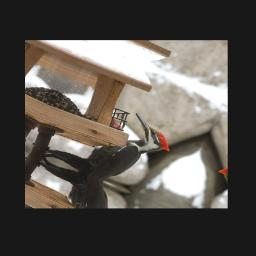Woodpecker: (38, 87, 187, 201)
